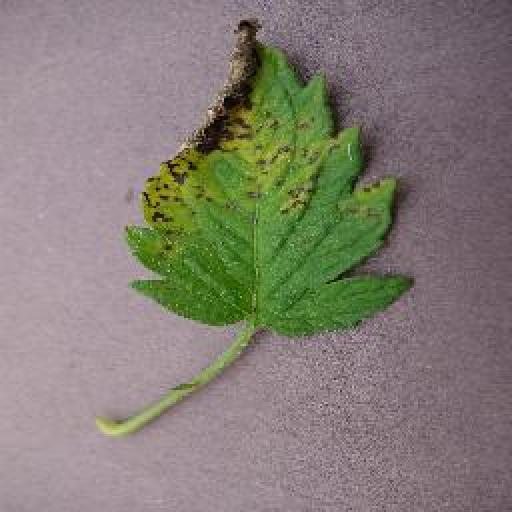Septoria: (124, 16, 415, 337)
